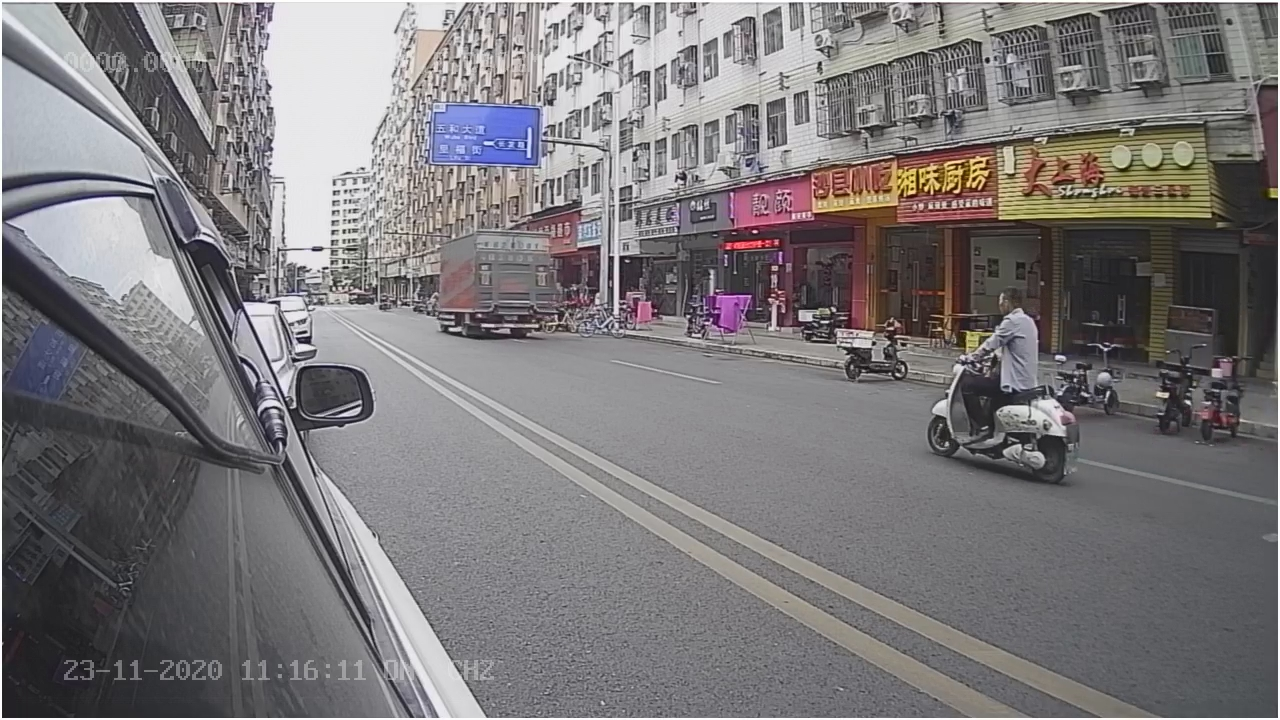person: (983, 284, 1046, 389)
